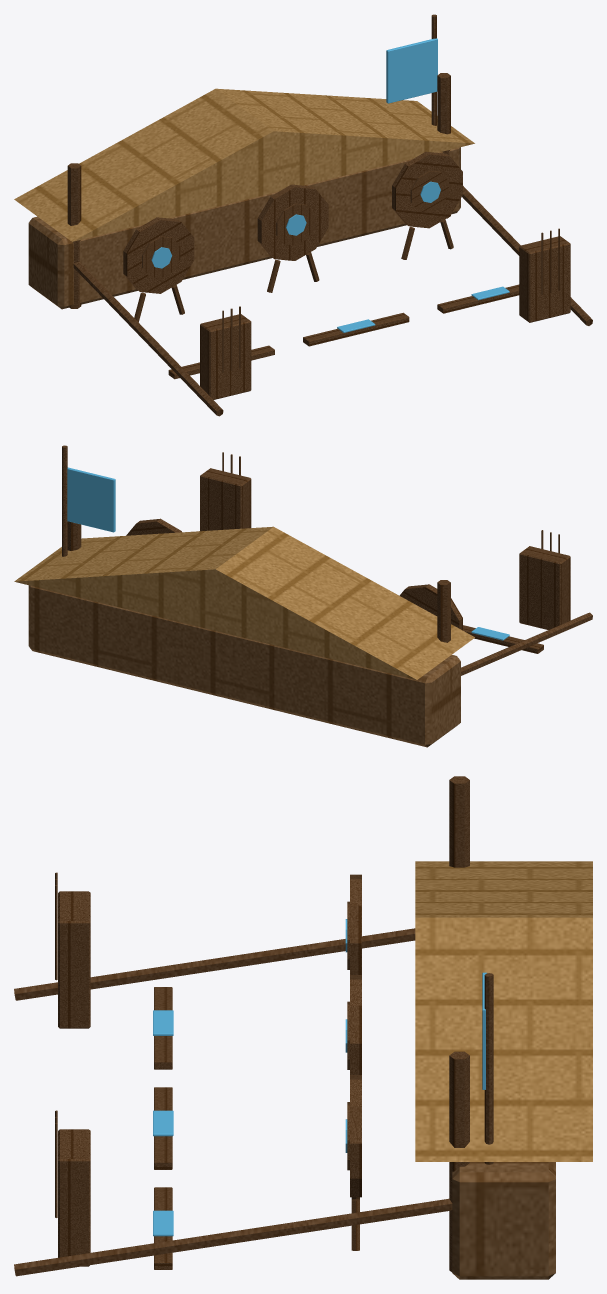
Rendered from edificio-b_000-e0-lod0-BtXBvNBf.glb.
The picture shows the model from 3 angles, top to bottom: view 1: azimuth 30°, elevation 25°; view 2: azimuth 150°, elevation 25°; view 3: azimuth 270°, elevation 25°; orthographic projection. The views are drawn at different scales.
Visible parts, largest first — view 1: envolvente_arqueria, team_color; view 2: envolvente_arqueria, team_color; view 3: envolvente_arqueria, team_color.
Boxes of the visible parts, x1=… form: envolvente_arqueria: x1=14, y1=14, x2=592, y2=416; team_color: x1=151, y1=38, x2=509, y2=332; envolvente_arqueria: x1=14, y1=445, x2=592, y2=747; team_color: x1=67, y1=467, x2=509, y2=640; envolvente_arqueria: x1=14, y1=776, x2=592, y2=1279; team_color: x1=153, y1=919, x2=486, y2=1236.
Bounding box in the file's own units: 48 × 22.44 × 39.07.
2 materials, 1 textured.
